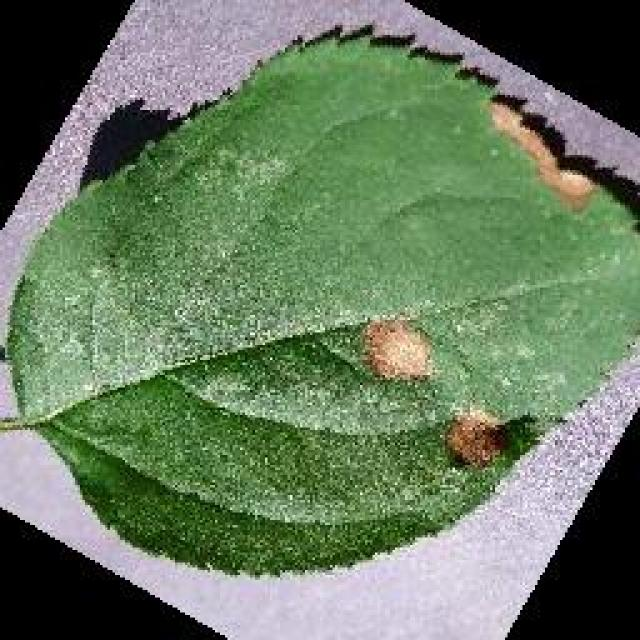Apple___Black_rot: (4, 29, 638, 581)
